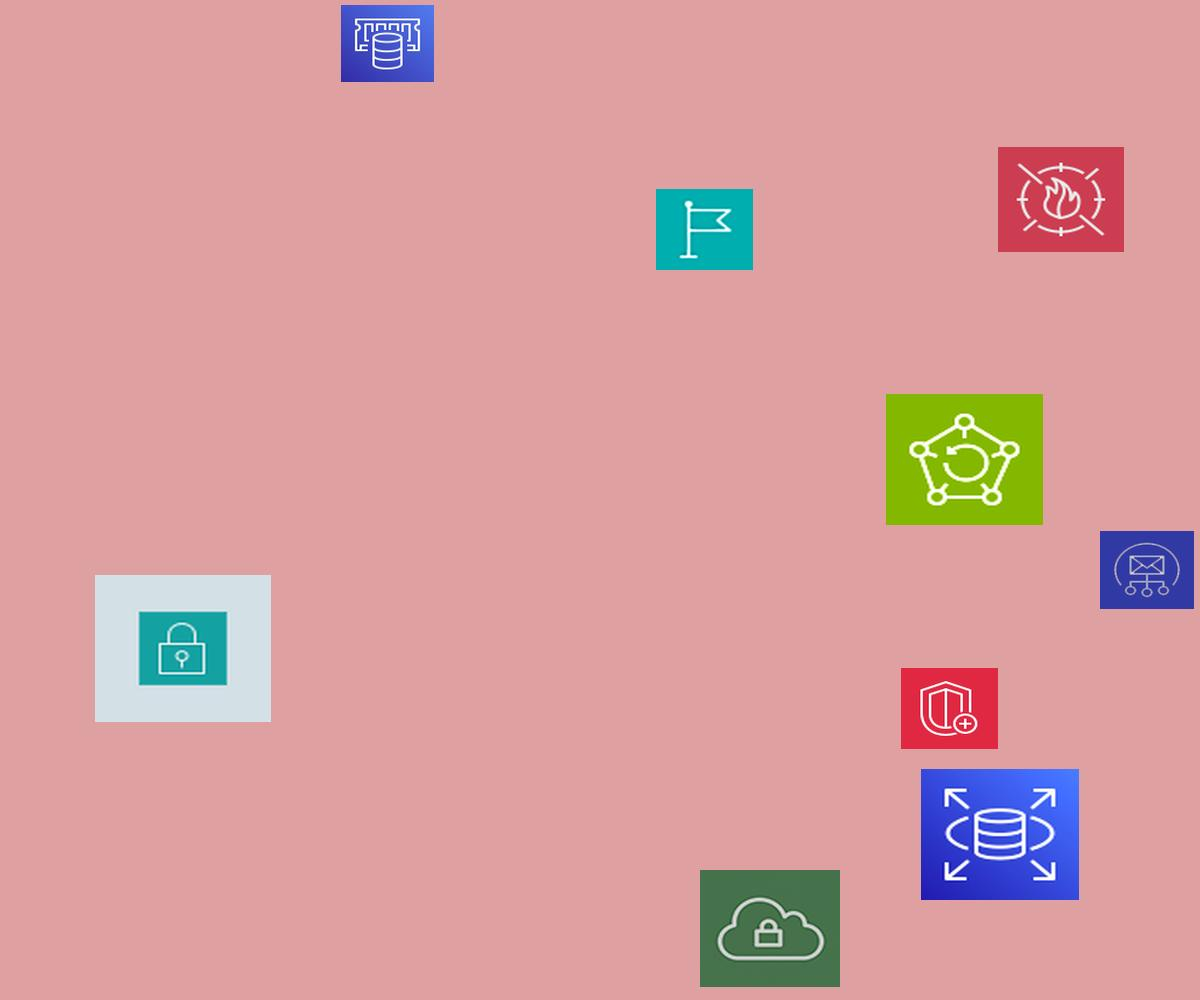AWS-Backup: (886, 394, 1043, 525)
AWS-ElastiCache: (341, 5, 434, 82)
AWS-Private-subnet: (95, 575, 271, 722)
AWS-Private_vpc: (700, 870, 840, 987)
AWS-RDS: (921, 769, 1079, 900)
AWS-Region: (656, 189, 753, 270)
AWS-Shield: (901, 668, 998, 749)
AWS-Simple-Email-Service: (1100, 531, 1194, 609)
AWS-WAF: (998, 147, 1124, 252)
